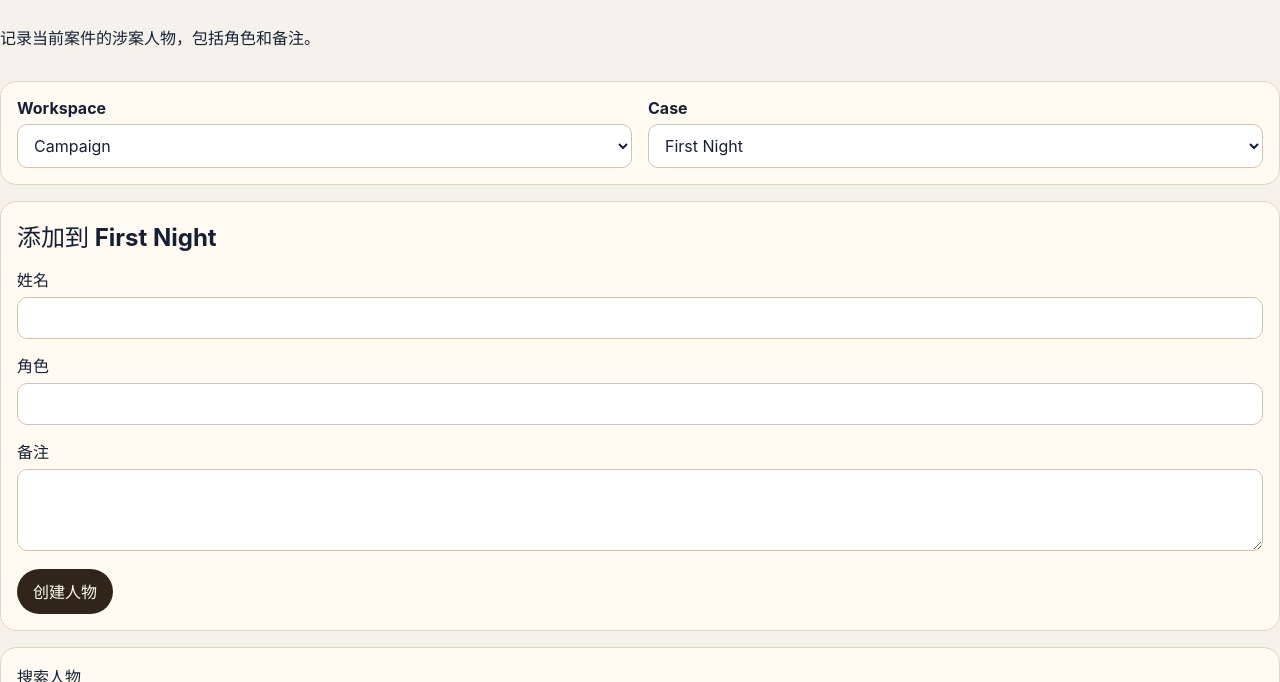
Test: phase 4 pages › creates, edits, and soft-deletes characters
Type "Detective" into the field labelled "姓名" at point(640, 318), box x1=17 y1=297 x2=1263 y2=339
Type "Investigator" into the field labelled "角色" at point(640, 404), box x1=17 y1=382 x2=1263 y2=425
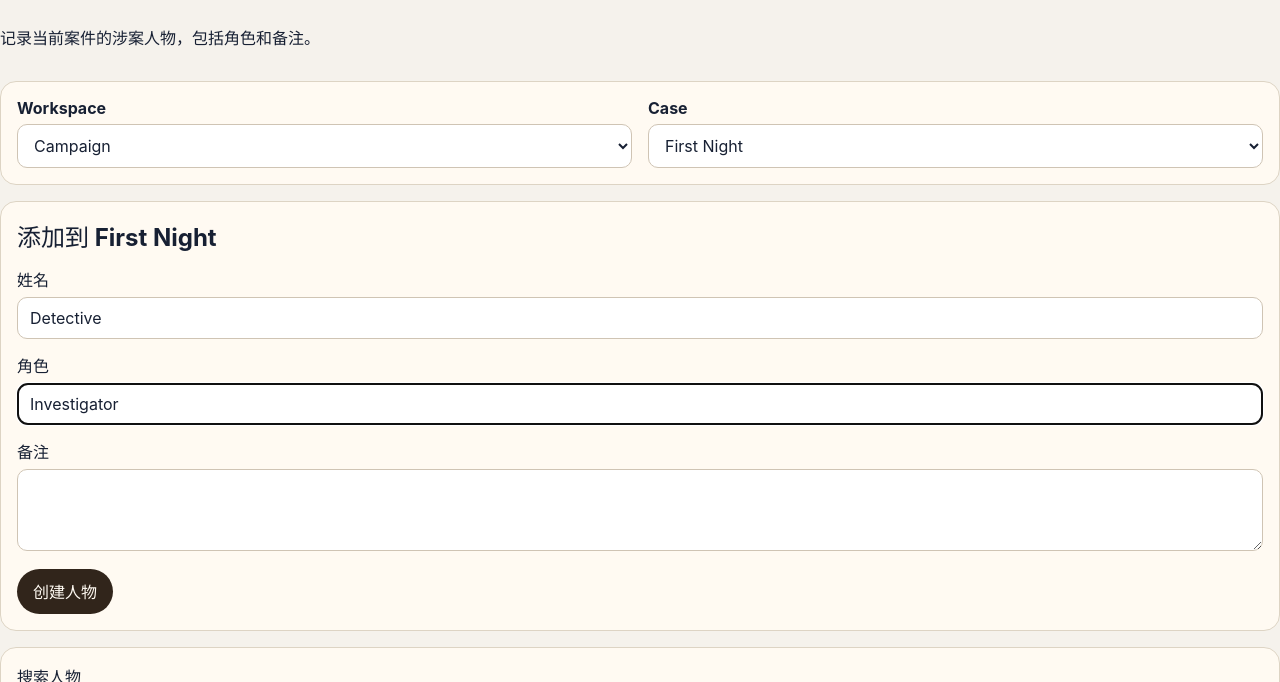
Type "Keeps a private notebook." into the text box labelled "备注" at point(640, 510), box x1=17 y1=468 x2=1263 y2=551
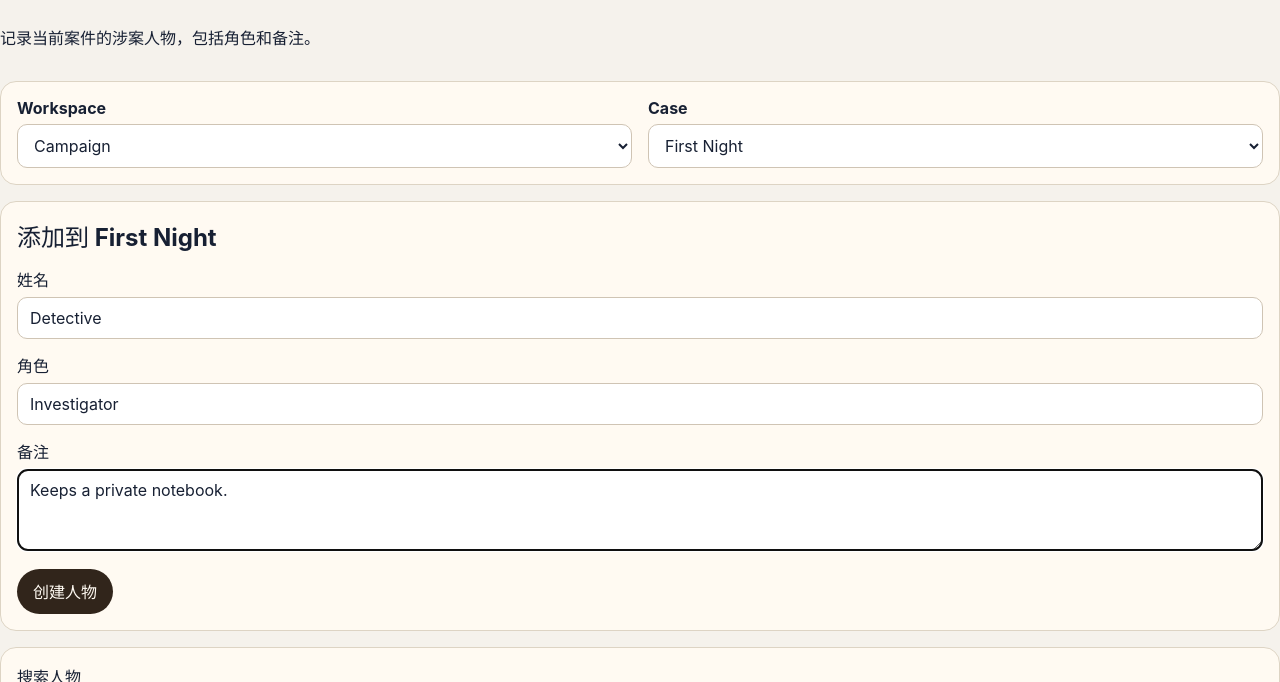
Click the button "创建人物" at point(65, 591), box x1=17 y1=569 x2=113 y2=614
(page scrolled)
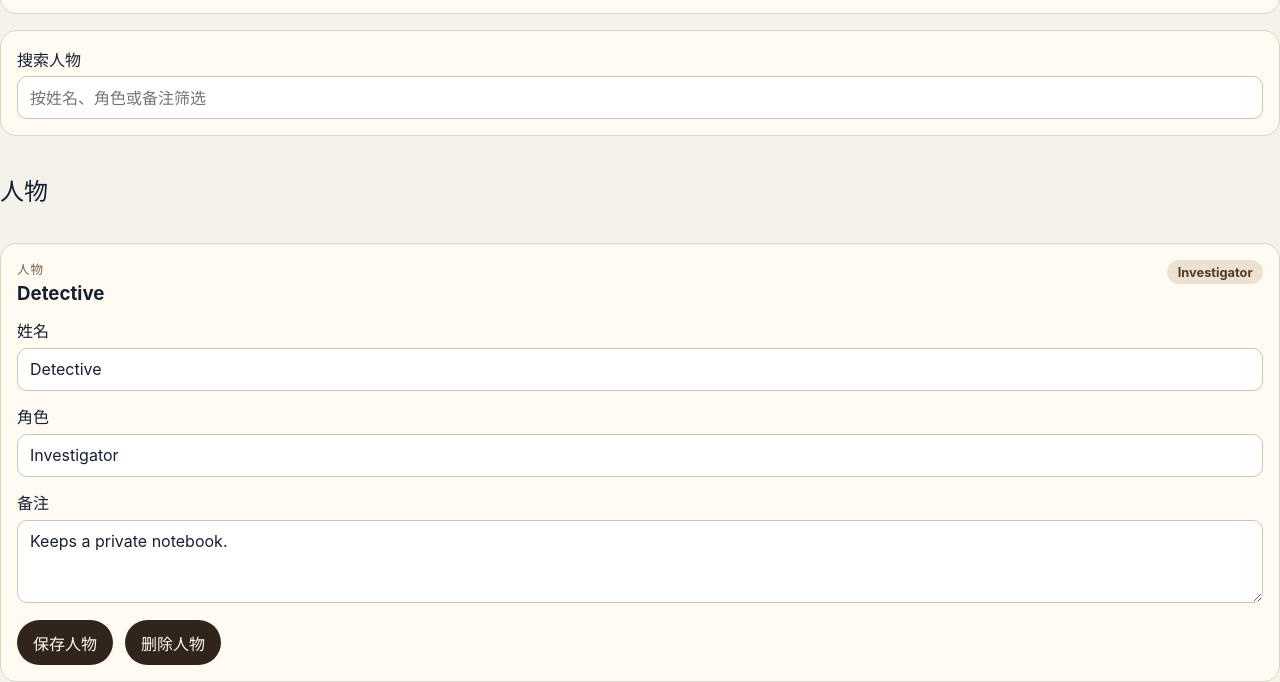
Replace the text in the field labelled "姓名" with "Senior Detective" at point(640, 369), box x1=17 y1=348 x2=1263 y2=391
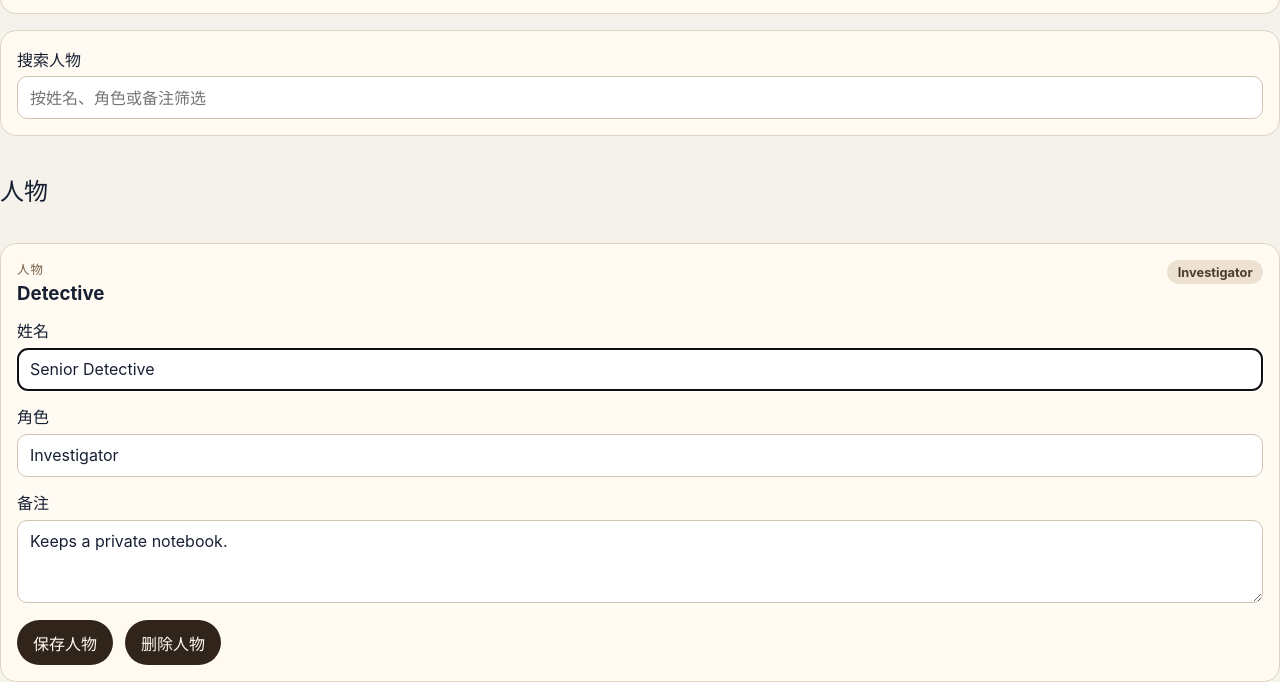
Click the button "保存人物" at point(65, 643), box x1=17 y1=620 x2=113 y2=665
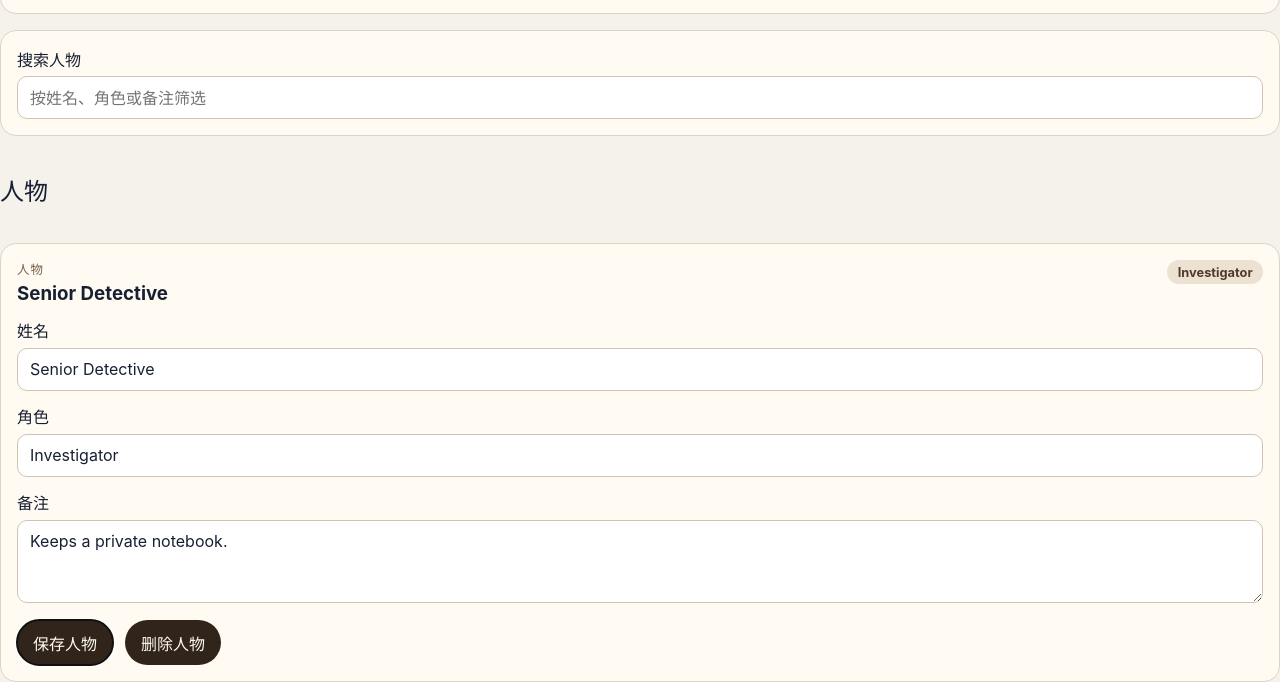
Click the button "删除人物" at point(173, 643), box x1=125 y1=620 x2=221 y2=665
(page scrolled)
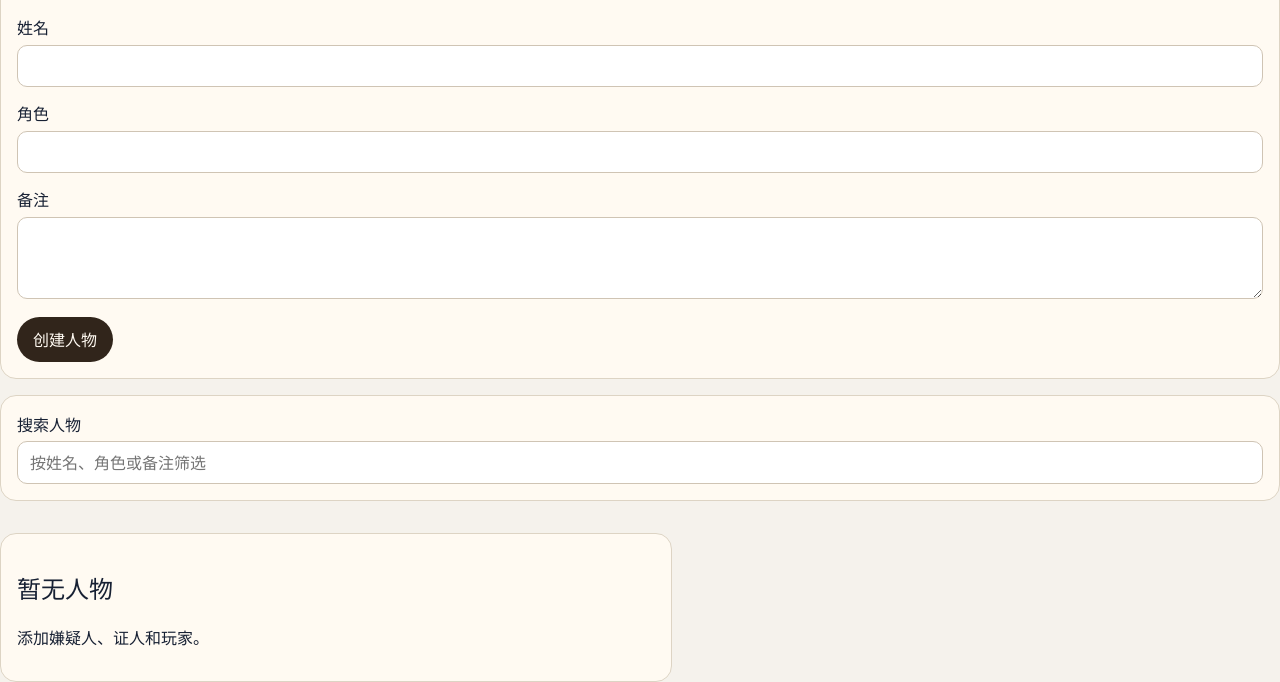
Result: the heading "暂无人物" is shown at x1=17 y1=575 x2=113 y2=604
